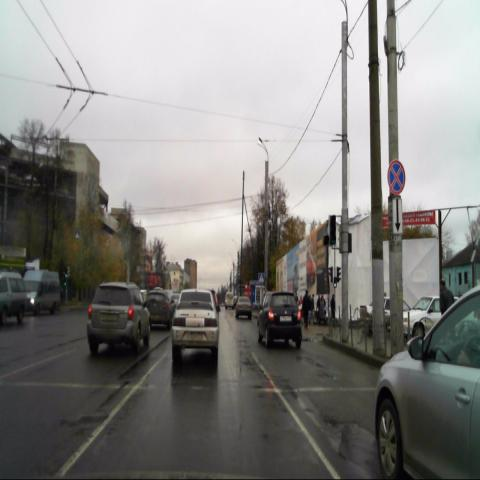3_27: (387, 160, 406, 196)
